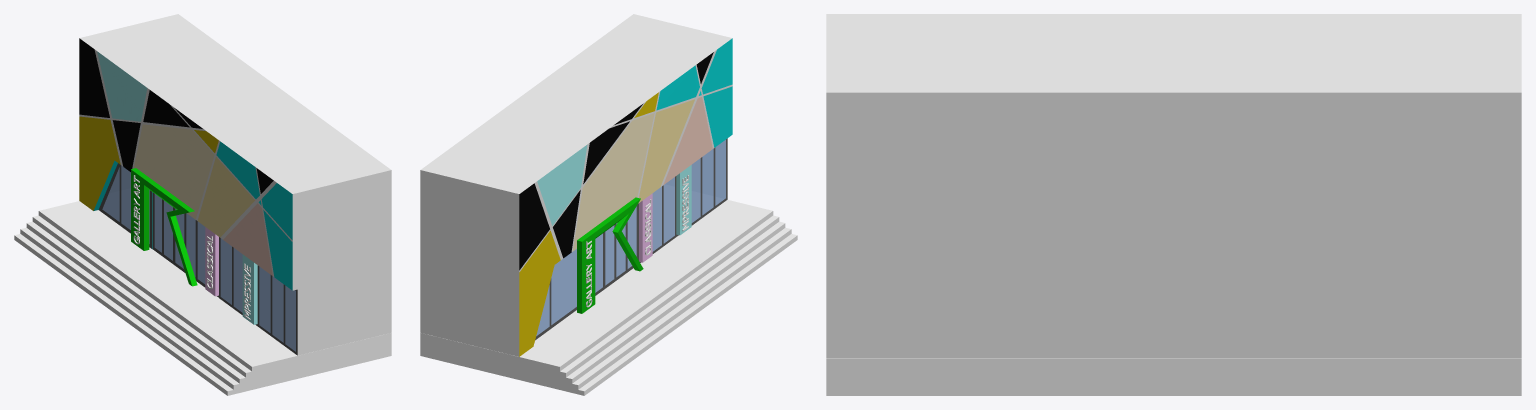
File: Tòa bò sữa.fbx
3 views of the same model, side by side, from view 1: azimuth 30°, elevation 25°; view 2: azimuth 150°, elevation 25°; view 3: azimuth 270°, elevation 25° (orthographic). The views are drawn at different scales.
Visible parts, largest first — view 1: Toabosua_LOD0; view 2: Toabosua_LOD0; view 3: Toabosua_LOD0.
Part boxes in pixels (x1,y1,x2,y2): Toabosua_LOD0: (14,14,391,395); Toabosua_LOD0: (420,14,797,395); Toabosua_LOD0: (826,14,1521,395).
Size of what is drawn, in the model's own units: 744 by 805 by 1674.
